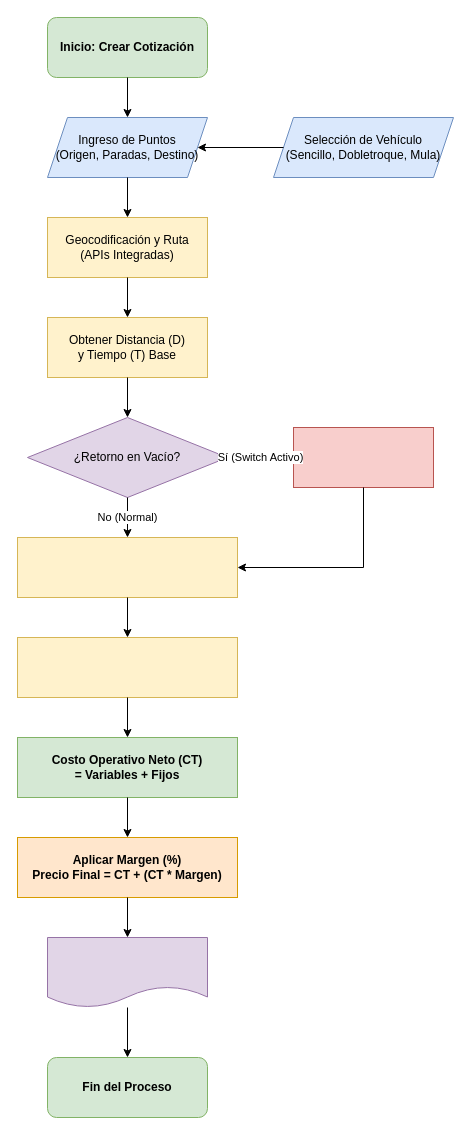
Some shapes in this 471 by 1135 pixel diagram are drawn without their labels. Here are the shapes that lost their labels. From the top down, the box of each, then its label:
(292, 426, 434, 488): Multiplicar Variables D = D * 2 T = T * 2
(16, 536, 238, 598): Calcular Costos Variables (D * C_km) + (T * C_hr) + (P * C_ton)
(16, 636, 238, 698): Sumar Costos Fijos (Base + Peajes + Maniobras)
(46, 936, 208, 1008): Generar PDF y Guardar en Historial Local
